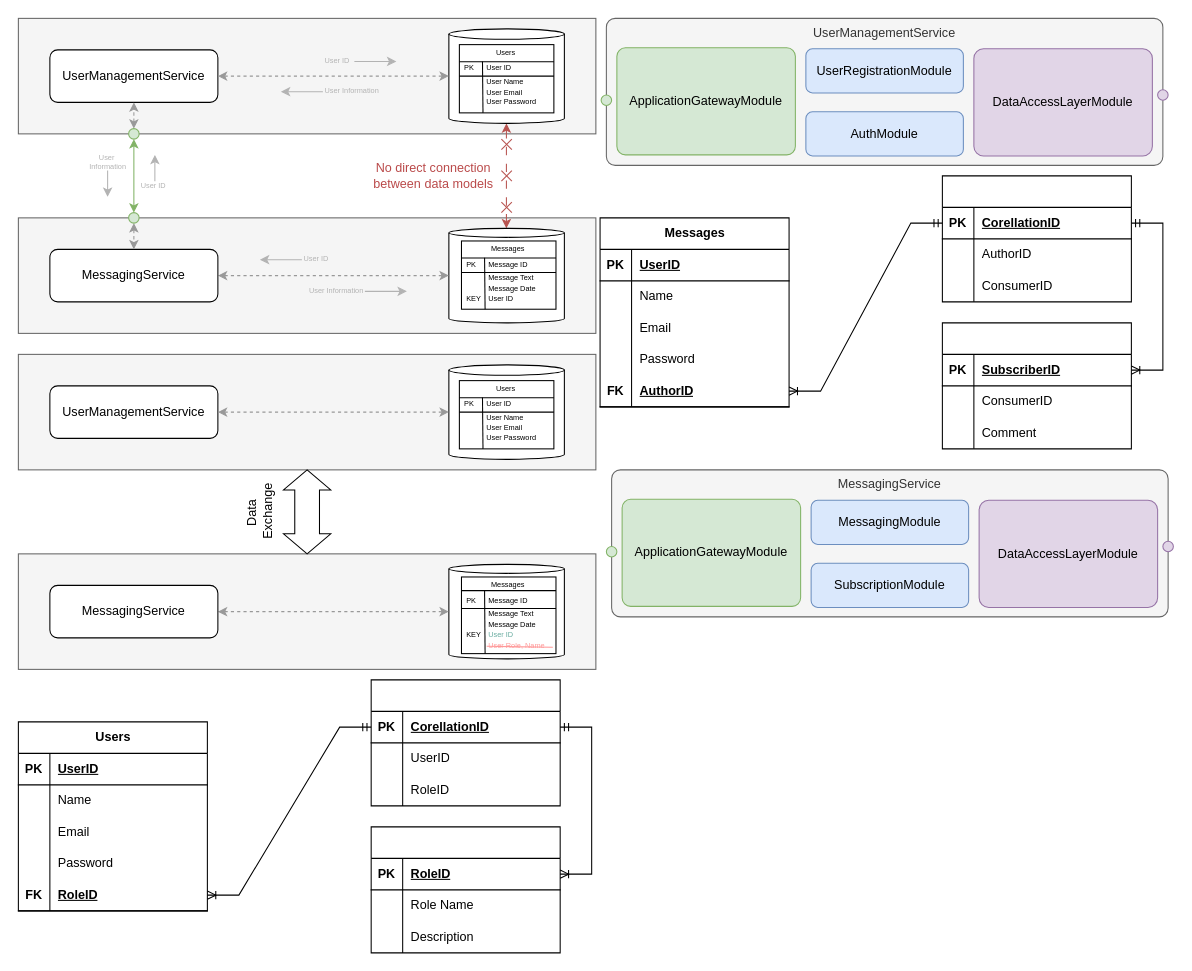
The diagram is 1192 pixels wide and 971 high, and some of its shapes have lost their labels. The box of each missing label's shape, as (x1, y1, x2, y2) in pixels:
Messages_Subscriptions: (941, 175, 1131, 302)
Roles: (370, 826, 560, 953)
Subscribers: (941, 322, 1131, 449)
Users_Roles: (370, 679, 560, 806)
